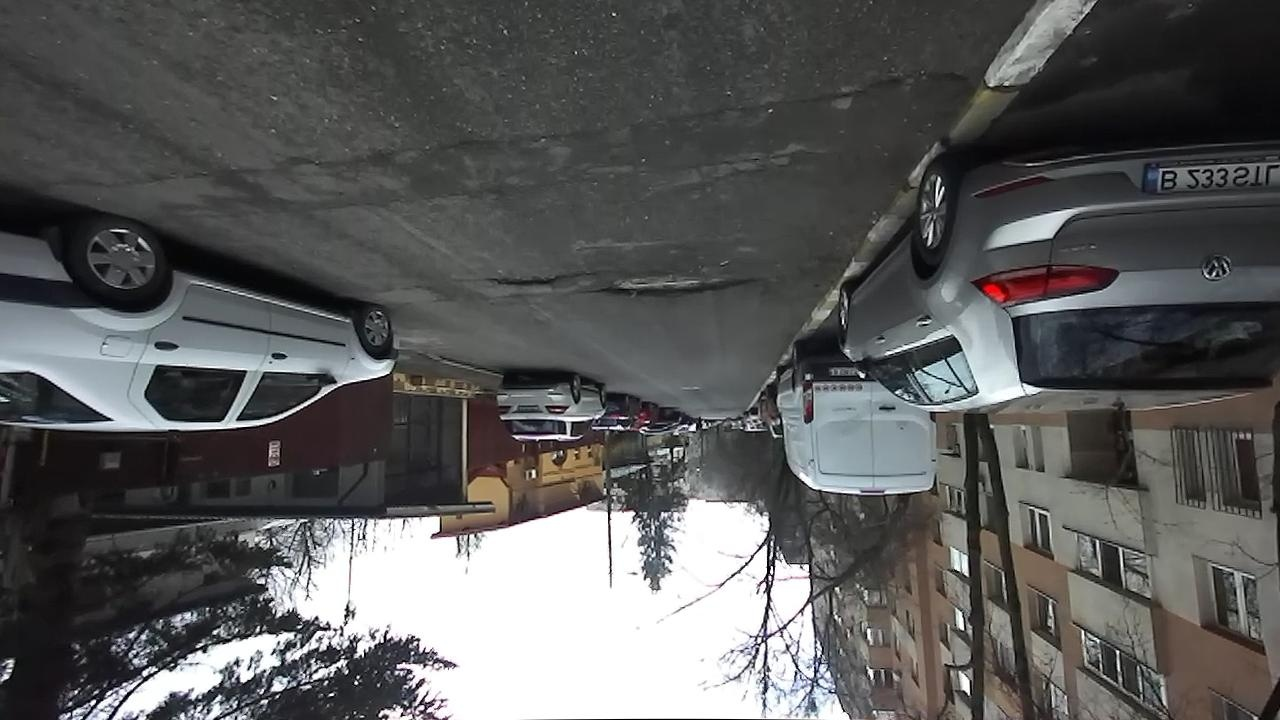pothole: (588, 261, 768, 299), (483, 267, 576, 292)
